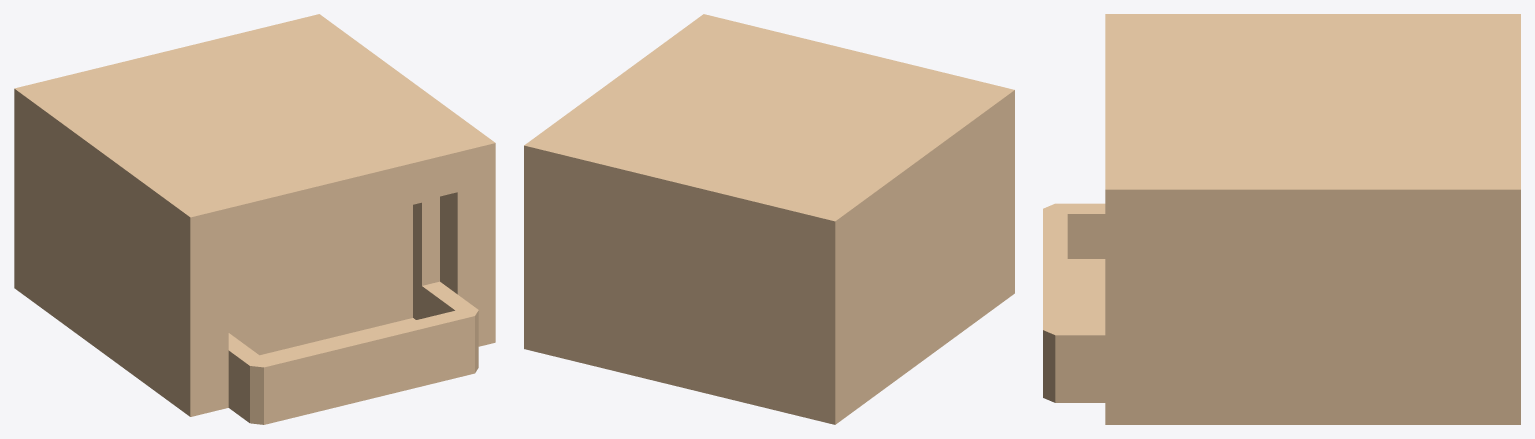
Rendered from building-window-balcony.obj.
3 views of the same model, side by side, from view 1: azimuth 30°, elevation 25°; view 2: azimuth 150°, elevation 25°; view 3: azimuth 270°, elevation 25° (orthographic). The views are drawn at different scales.
Bounding box in the file's own units: 1 × 0.625 × 1.15.
